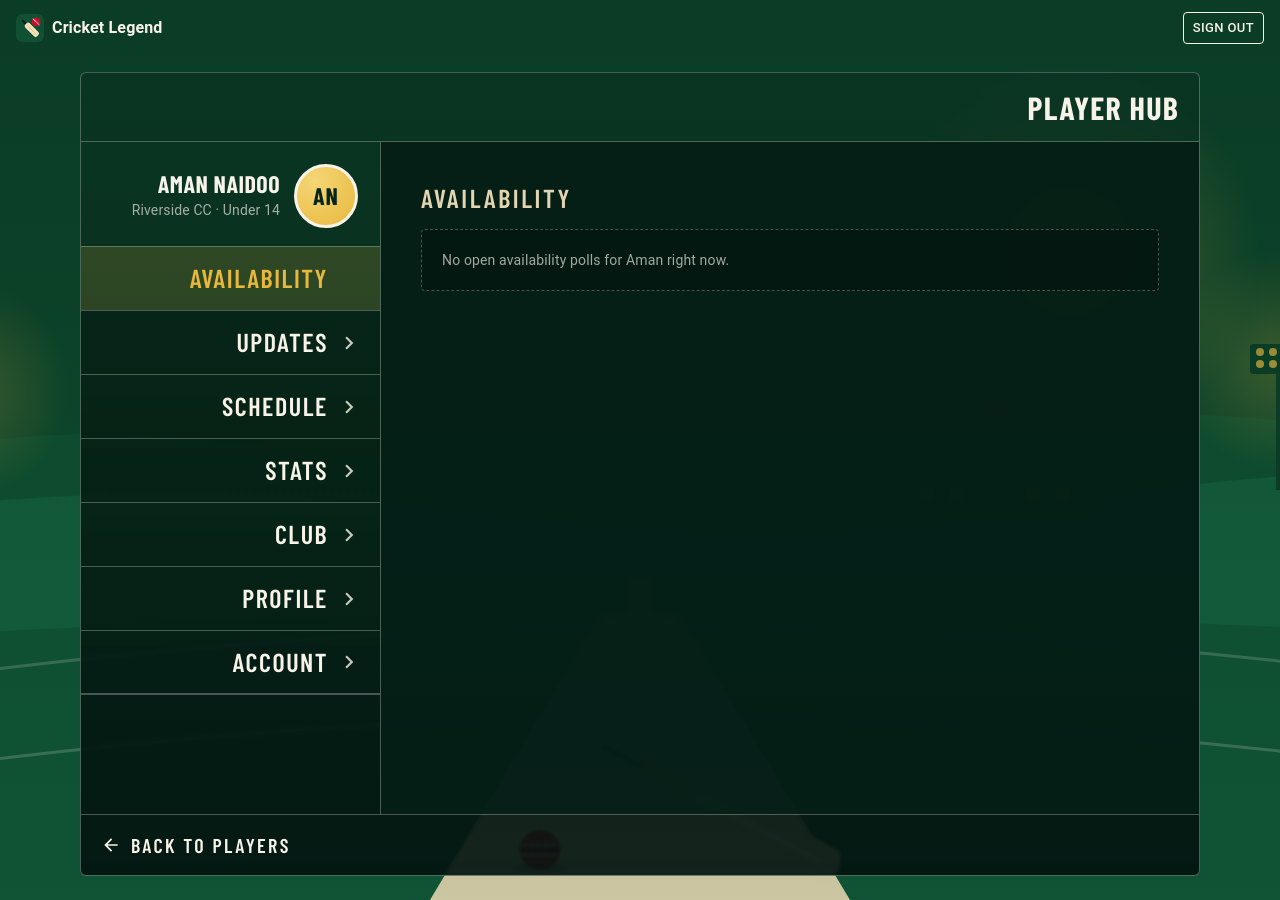
MyPlayerPage on a desktop › the section lives in the URL: choosing Profile opens Contact with the Profile sub menu
Click the button "Profile": (285,598) top-left (81, 566), bottom-right (380, 630)
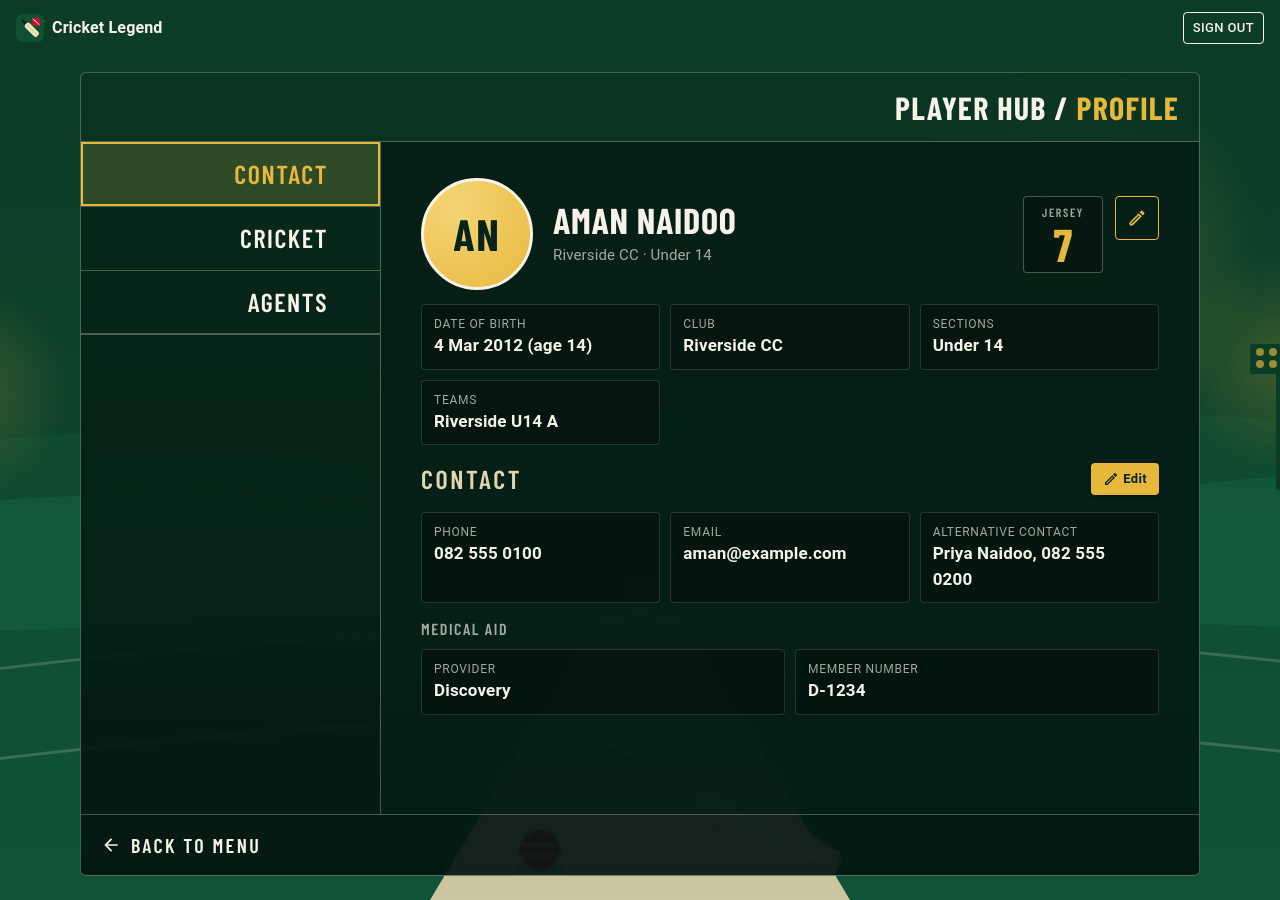
Expected: the element with test id "hub-profile" is shown, top-left (421, 178), bottom-right (1159, 714)
Expected: the element with test id "profile-card" is shown, top-left (421, 178), bottom-right (1159, 445)
Expected: the buttons read "Contact", "Cricket", "Agents", in this order
Click the button "Cricket": (284,238) top-left (81, 206), bottom-right (380, 270)
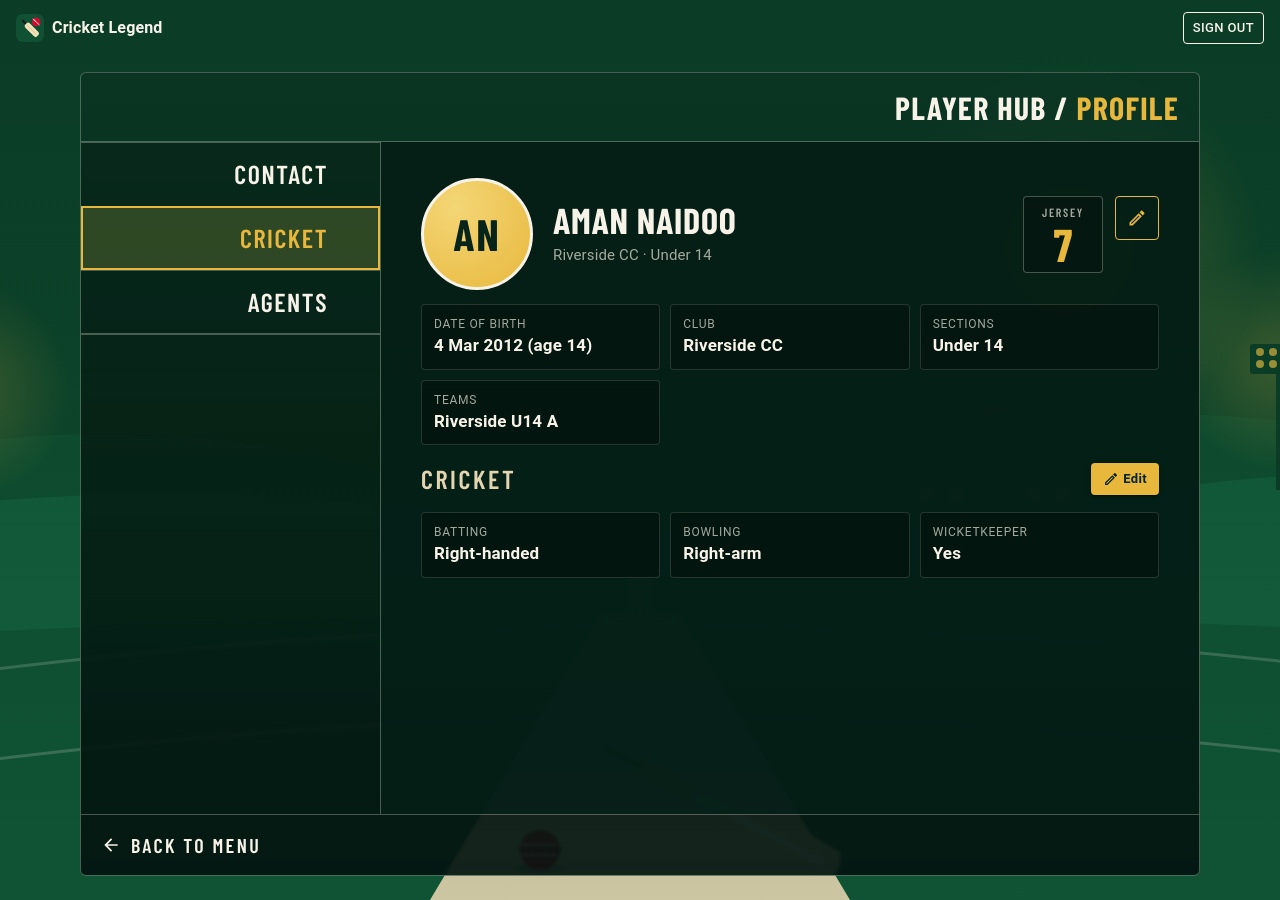
Expected: the heading "Cricket" is shown, top-left (421, 459), bottom-right (516, 498)
